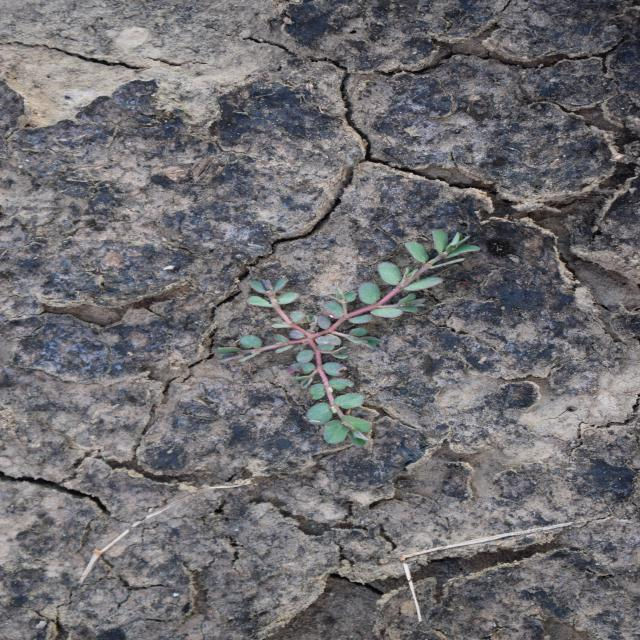SpottedSpurge: (214, 227, 485, 448)
